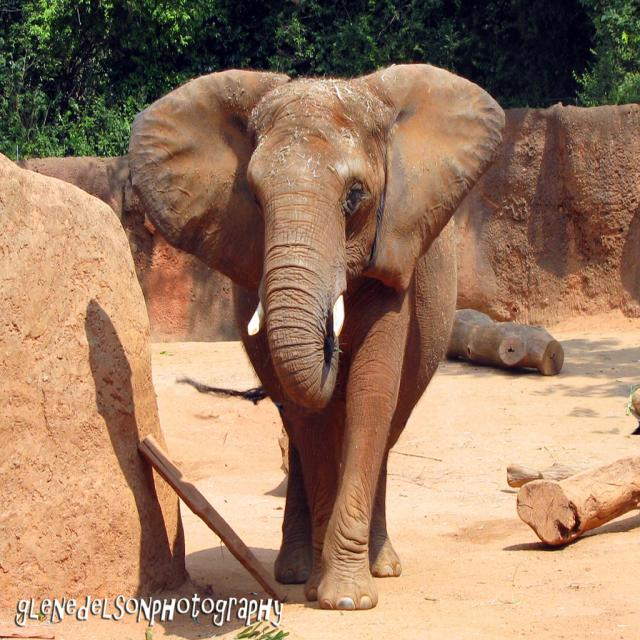Elephant: (127, 64, 508, 610)
